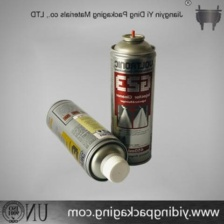aerosol_cans: (41, 94, 136, 186), (104, 27, 159, 168)
